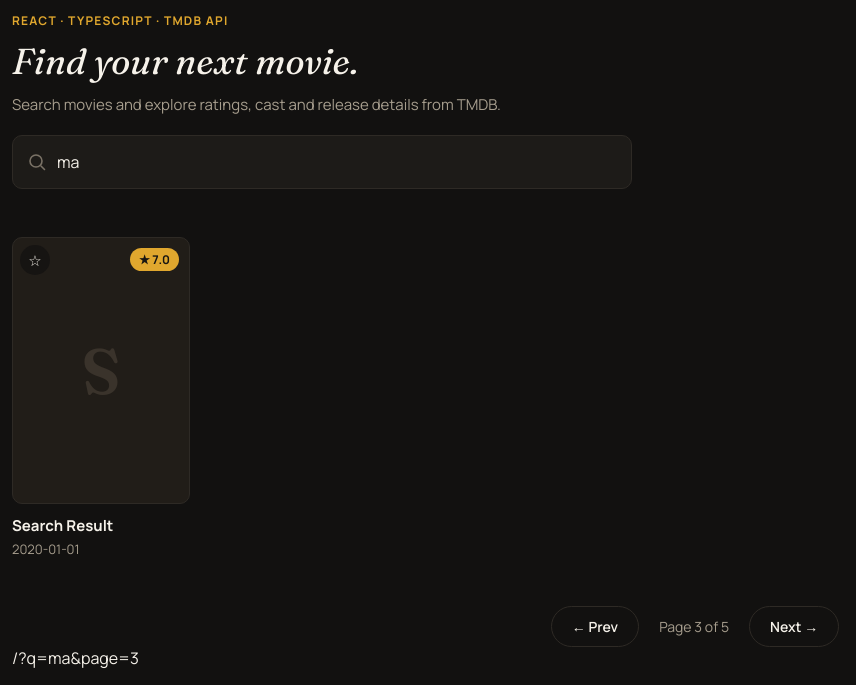
Test: Home URL state › writes the query to the URL and drops the page when typing
In the field named "search movies": [322, 162] box [12,135,632,189], type "x"
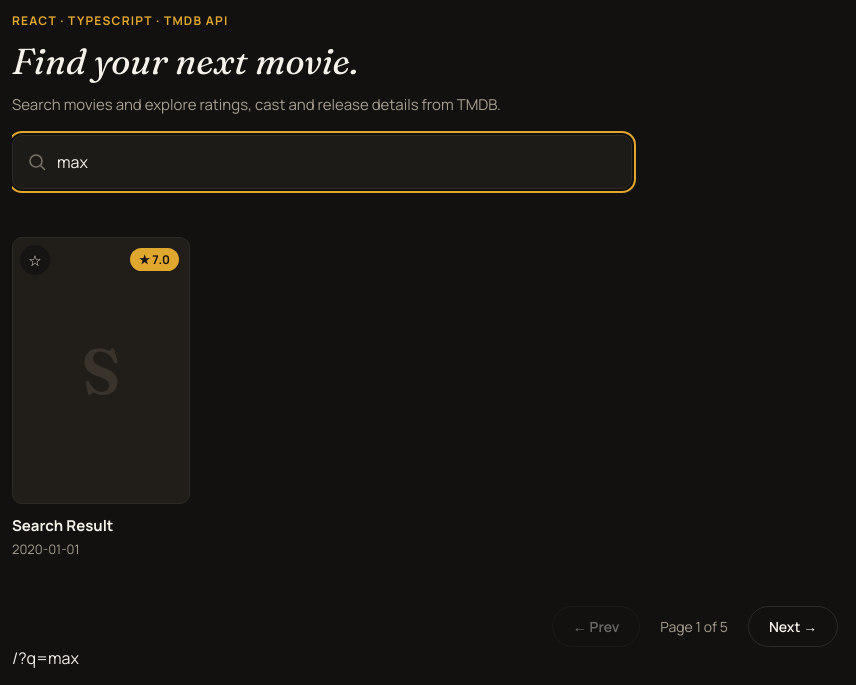
Result: the text with test id "location" reads "/?q=max" at [12,647,79,669]
